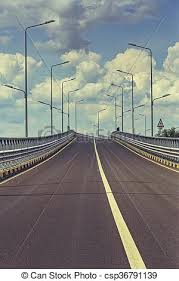strada: (3, 141, 172, 269)
